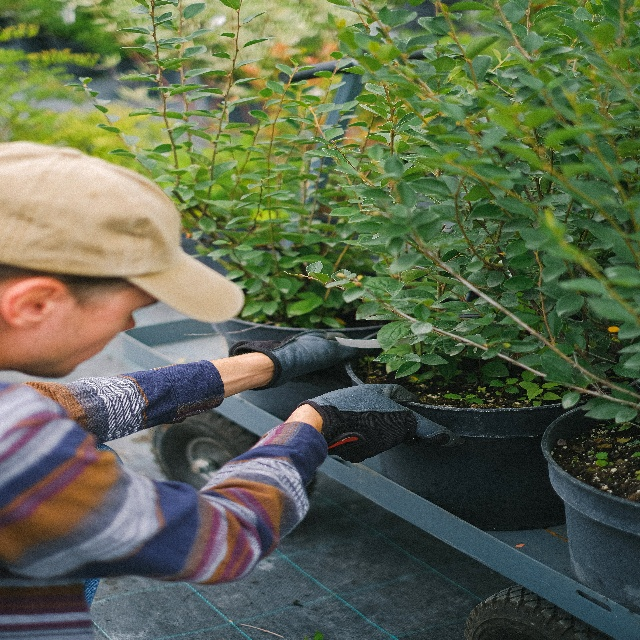Guantes: (297, 382, 467, 465), (225, 327, 369, 392)
